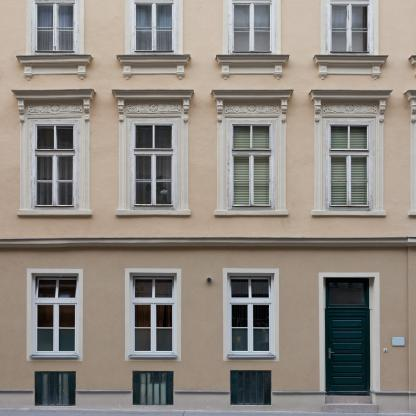Building Outline: (0, 0, 416, 413)
Cornice: (11, 88, 96, 124), (210, 89, 294, 124), (111, 89, 194, 124), (308, 89, 393, 123)
Door: (324, 308, 375, 396)
Facade: (1, 1, 416, 413)
Floor: (0, 100, 416, 238), (0, 0, 416, 91)
Floor Slab: (0, 238, 416, 247), (0, 91, 416, 100)
Ground Floor: (0, 248, 416, 413)
Molding: (0, 236, 416, 248)
Sill: (15, 54, 92, 81), (312, 54, 389, 80), (214, 54, 290, 80), (116, 54, 191, 80), (116, 209, 191, 216), (311, 210, 387, 216), (17, 210, 92, 216), (214, 210, 289, 216)
Window: (129, 273, 177, 354), (227, 273, 275, 354), (32, 274, 78, 355), (232, 124, 271, 205), (330, 124, 368, 206), (36, 125, 74, 206), (135, 124, 173, 205), (36, 0, 74, 51), (331, 0, 369, 51), (233, 0, 271, 51), (135, 0, 173, 51), (324, 277, 375, 308), (231, 371, 272, 406), (35, 371, 76, 406), (133, 371, 174, 406)
